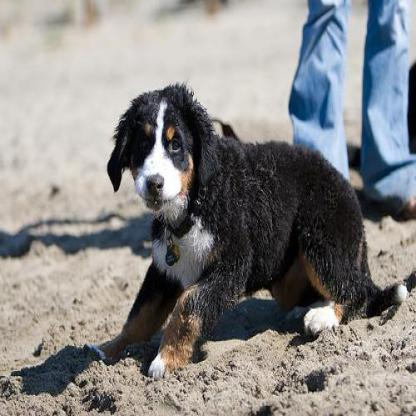Bernese_mountain_dog: (93, 77, 413, 380)
